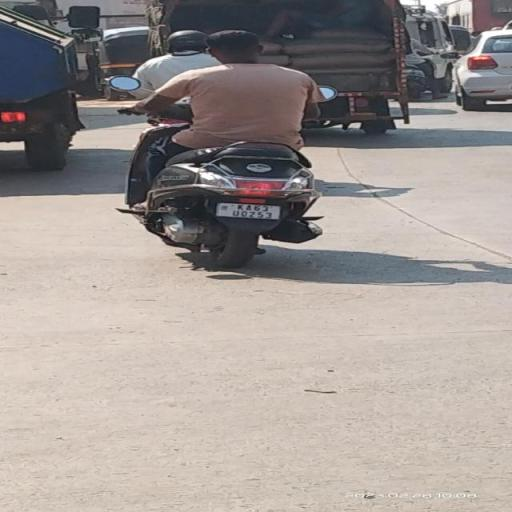bike: (106, 22, 352, 265)
numberplate: (216, 202, 282, 220)
withouthelmet: (210, 32, 262, 60)
